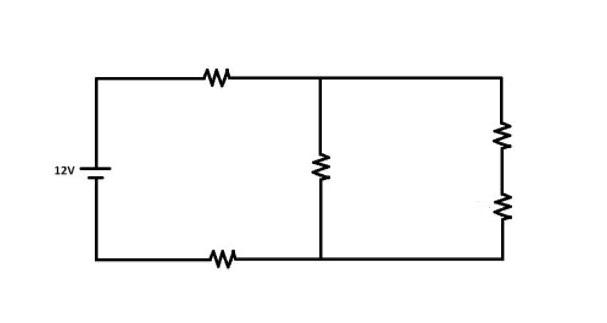resistor: (470, 176, 536, 236), (482, 107, 528, 172), (191, 54, 256, 94), (189, 242, 255, 271), (307, 136, 342, 184)
